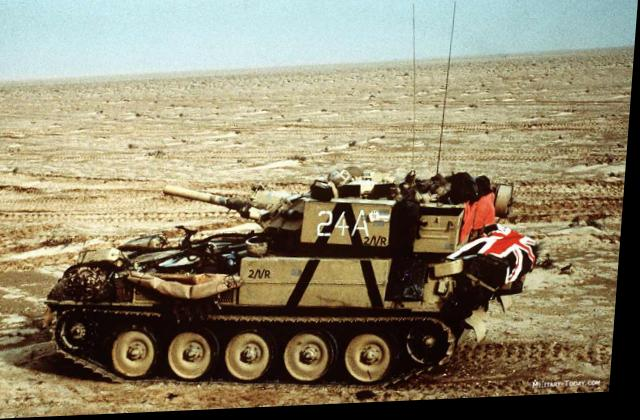tank: (69, 181, 527, 412)
